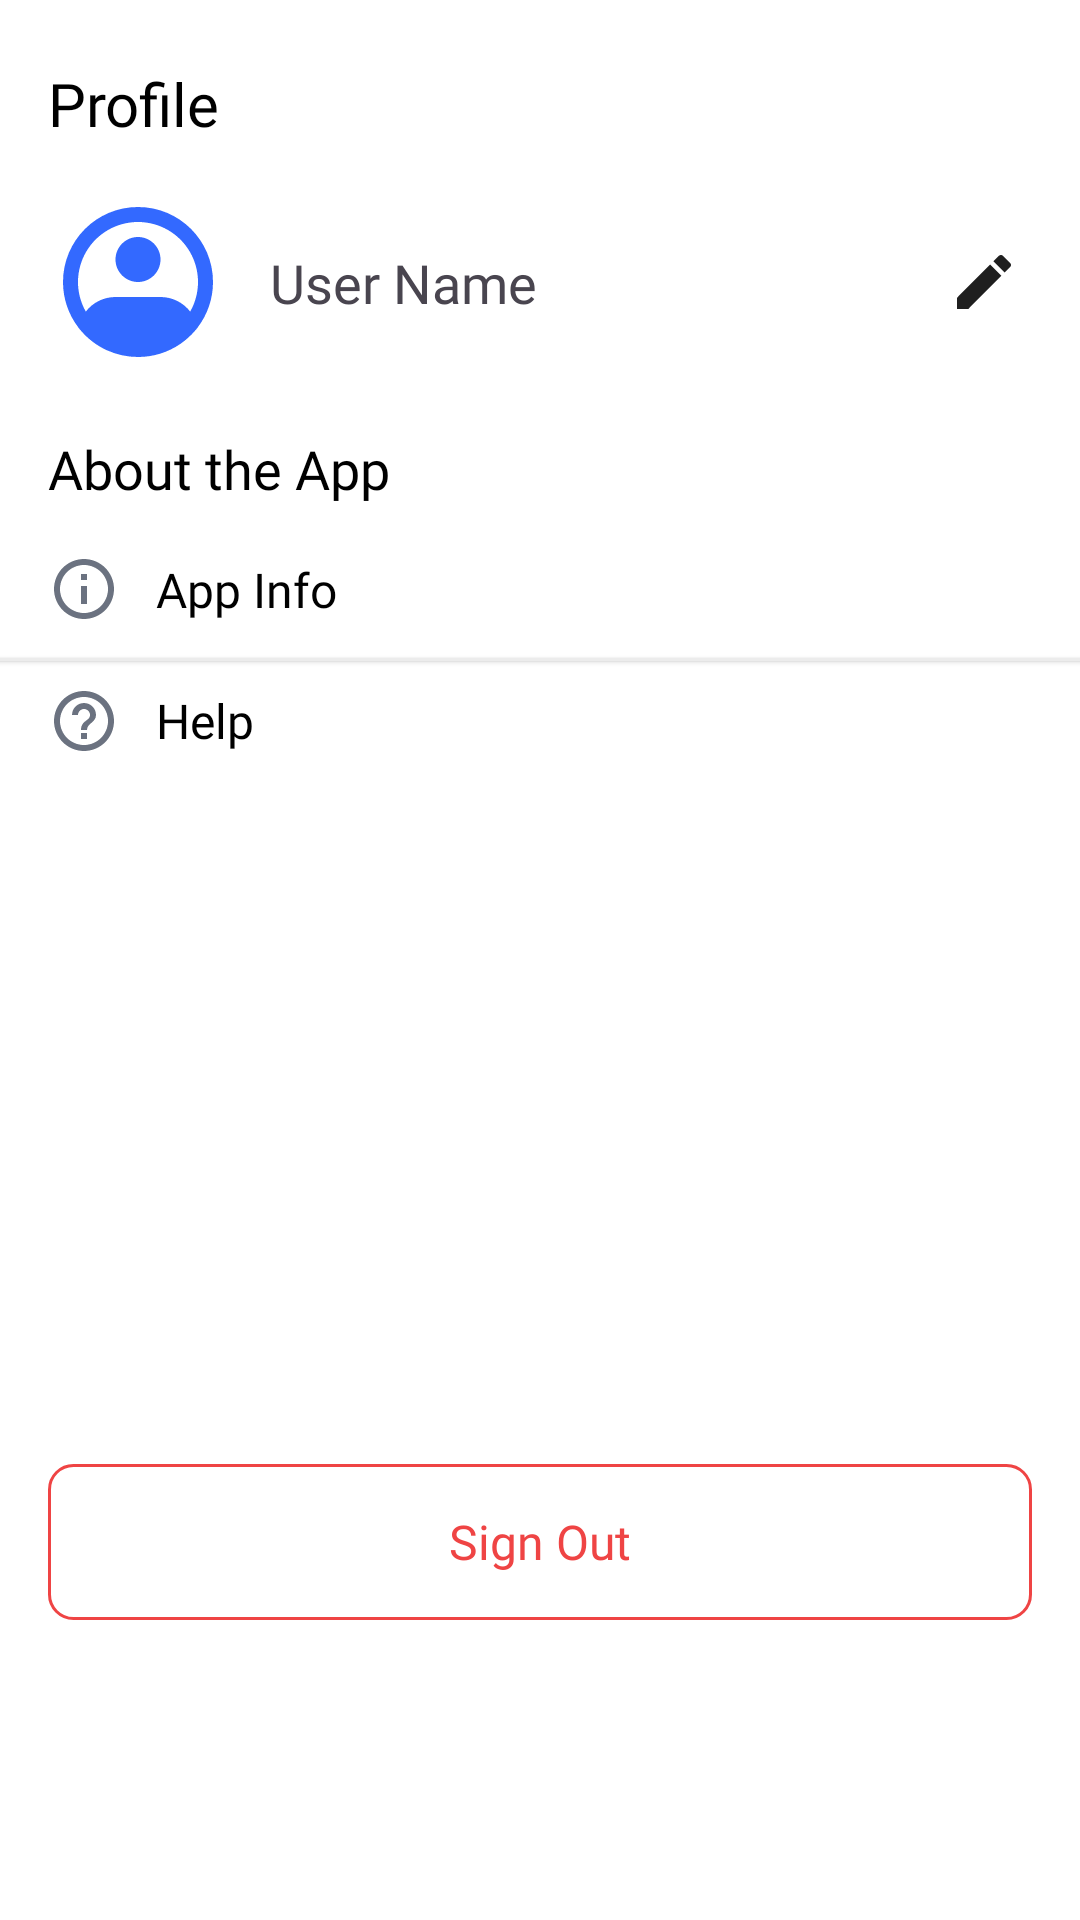

Icon click points for this 1080×1920 phone screenshot, format point (x, y):
icon edit: point (984, 282)
